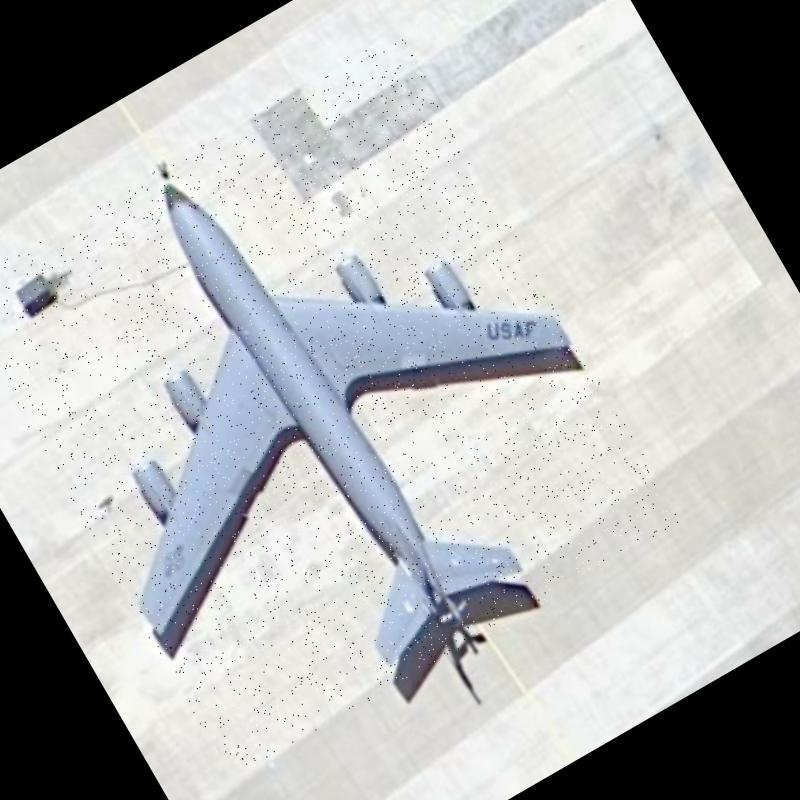A14: (0, 30, 681, 780)
